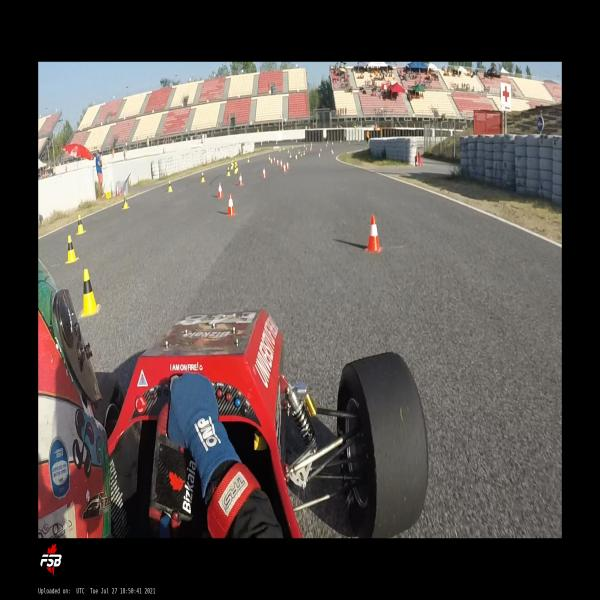orange_cone: (364, 215, 383, 253), (227, 194, 236, 216), (218, 182, 224, 199), (238, 173, 243, 187), (115, 183, 120, 196), (262, 168, 266, 178), (283, 164, 286, 172), (286, 162, 289, 169), (280, 159, 282, 167), (277, 160, 279, 166)
yellow_cone: (81, 269, 100, 318), (65, 235, 78, 263), (77, 214, 86, 235), (123, 194, 129, 209), (200, 171, 205, 183), (226, 166, 231, 176), (168, 180, 172, 192), (106, 191, 111, 199), (234, 164, 237, 174), (236, 163, 238, 171), (231, 162, 233, 169), (248, 156, 250, 162), (235, 158, 236, 164)
